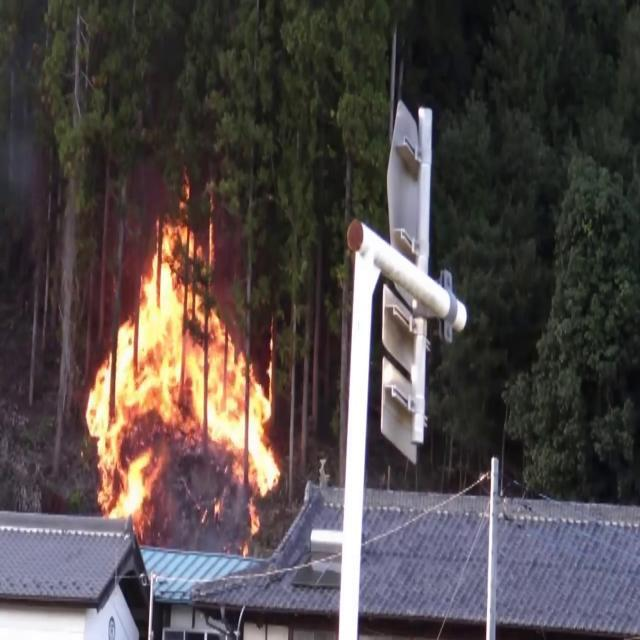Fire: (81, 197, 281, 520)
